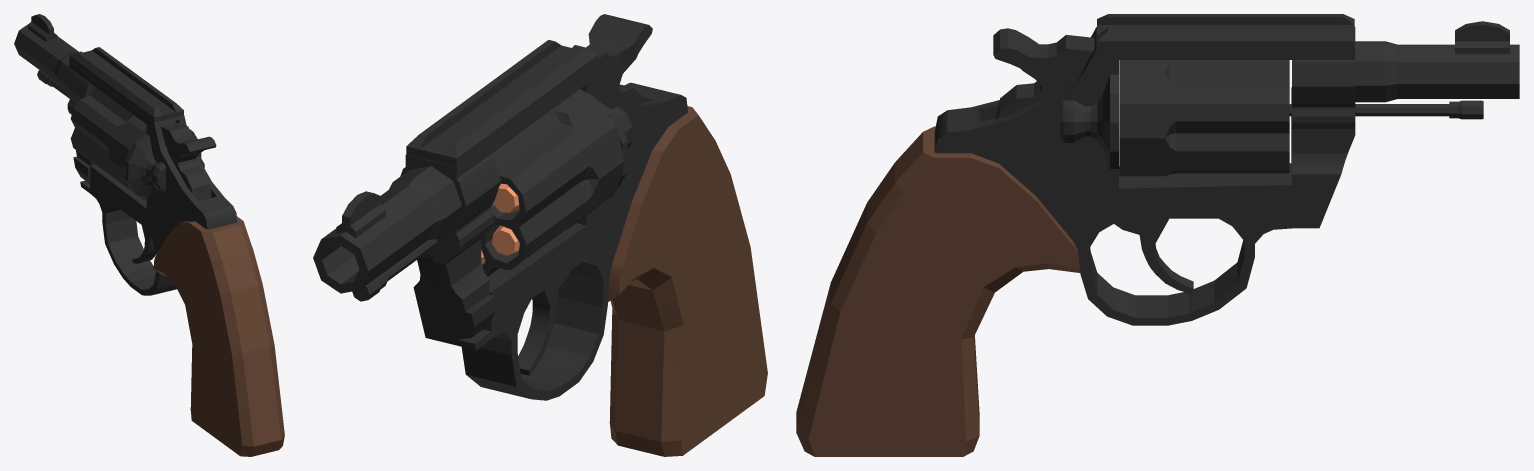
The model's file is Revolver.glb.
3 renders of one model, left to right at view 1: azimuth 30°, elevation 25°; view 2: azimuth 150°, elevation 25°; view 3: azimuth 270°, elevation 25°, orthographic. The views are drawn at different scales.
Visible parts, largest first — view 1: Grip, Frame, Revolving_Cylinder, Rear_Sights, Snub_38_Barrel, Hammer, Back_Plate_Right, Cylinder_Arm, Trigger; view 2: Grip, Frame, Revolving_Cylinder, Snub_38_Barrel, Rear_Sights, Cylinder_Arm, Hammer, Trigger, Extractor_Rod, Back_Plate_Right, Bullet5, Bullet6; view 3: Grip, Frame, Revolving_Cylinder, Snub_38_Barrel, Rear_Sights, Hammer, Back_Plate_Left, Extractor_Rod, Trigger.
Boxes of the visible parts, x1,y1,x2,y2 form: Grip: (153, 216, 284, 456); Frame: (63, 61, 237, 295); Revolving_Cylinder: (70, 87, 194, 199); Rear_Sights: (69, 47, 183, 122); Snub_38_Barrel: (14, 14, 78, 91); Hammer: (161, 122, 216, 200); Back_Plate_Right: (125, 134, 165, 197); Cylinder_Arm: (67, 100, 94, 183); Trigger: (132, 225, 155, 263); Grip: (608, 106, 767, 456); Frame: (400, 63, 687, 400); Revolving_Cylinder: (481, 89, 624, 276); Snub_38_Barrel: (313, 166, 461, 293); Rear_Sights: (406, 40, 598, 166); Cylinder_Arm: (429, 208, 495, 339); Hammer: (572, 14, 652, 103); Trigger: (518, 271, 570, 375); Extractor_Rod: (352, 239, 437, 301); Back_Plate_Right: (596, 99, 632, 198); Bullet5: (492, 225, 519, 255); Bullet6: (493, 183, 519, 212); Grip: (796, 126, 1080, 456); Frame: (934, 27, 1355, 325); Revolving_Cylinder: (1119, 60, 1289, 176); Snub_38_Barrel: (1355, 21, 1519, 102); Rear_Sights: (1097, 14, 1354, 48); Hammer: (993, 28, 1094, 118); Back_Plate_Left: (1060, 74, 1118, 168); Extractor_Rod: (1289, 100, 1483, 119); Trigger: (1114, 218, 1193, 294).
Size of the model in its own units: 0.0456 by 0.1585 by 0.2481.
Materials: 2 (2 with a texture image).
